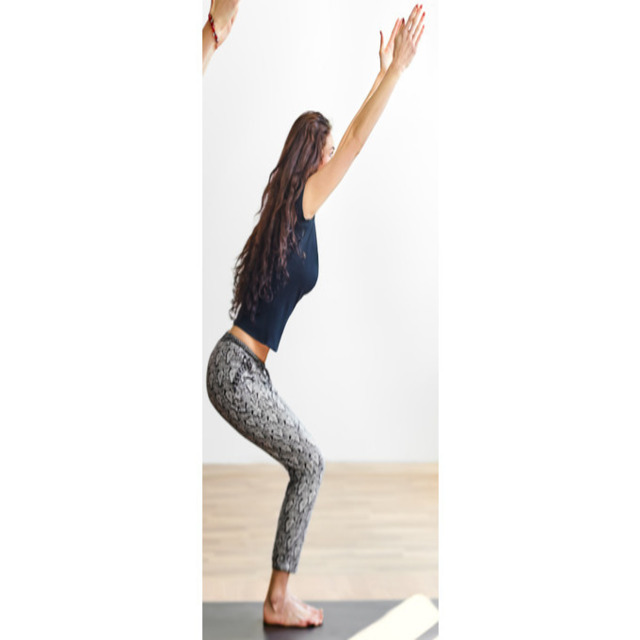Squat_Pose: (206, 3, 427, 630)
